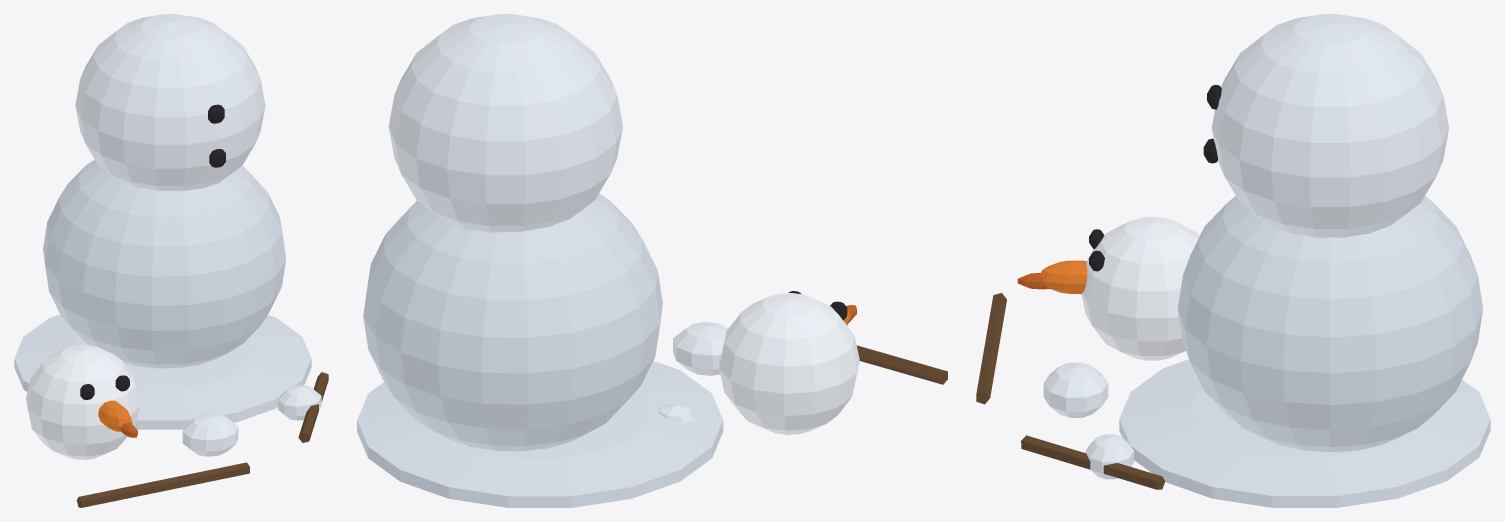
The model's file is Building_Snowman__D.glb.
3 renders of one model, left to right at view 1: azimuth 30°, elevation 25°; view 2: azimuth 150°, elevation 25°; view 3: azimuth 270°, elevation 25°, orthographic. The views are drawn at different scales.
Visible parts, largest first — view 1: Snowman__D; view 2: Snowman__D; view 3: Snowman__D.
Boxes of the visible parts, <box> form: Snowman__D: <box>14,14,328,507</box>; Snowman__D: <box>357,14,947,507</box>; Snowman__D: <box>976,14,1490,507</box>.
Bounding box in the file's own units: 1.13 × 1.12 × 1.21.
Materials: 1 (1 with a texture image).
